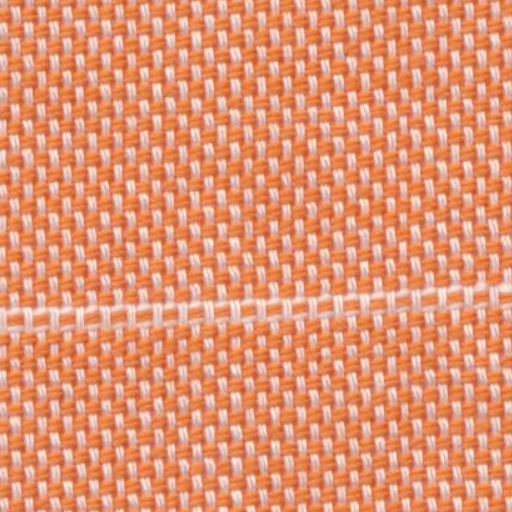TuoSha: (12, 274, 500, 354)
